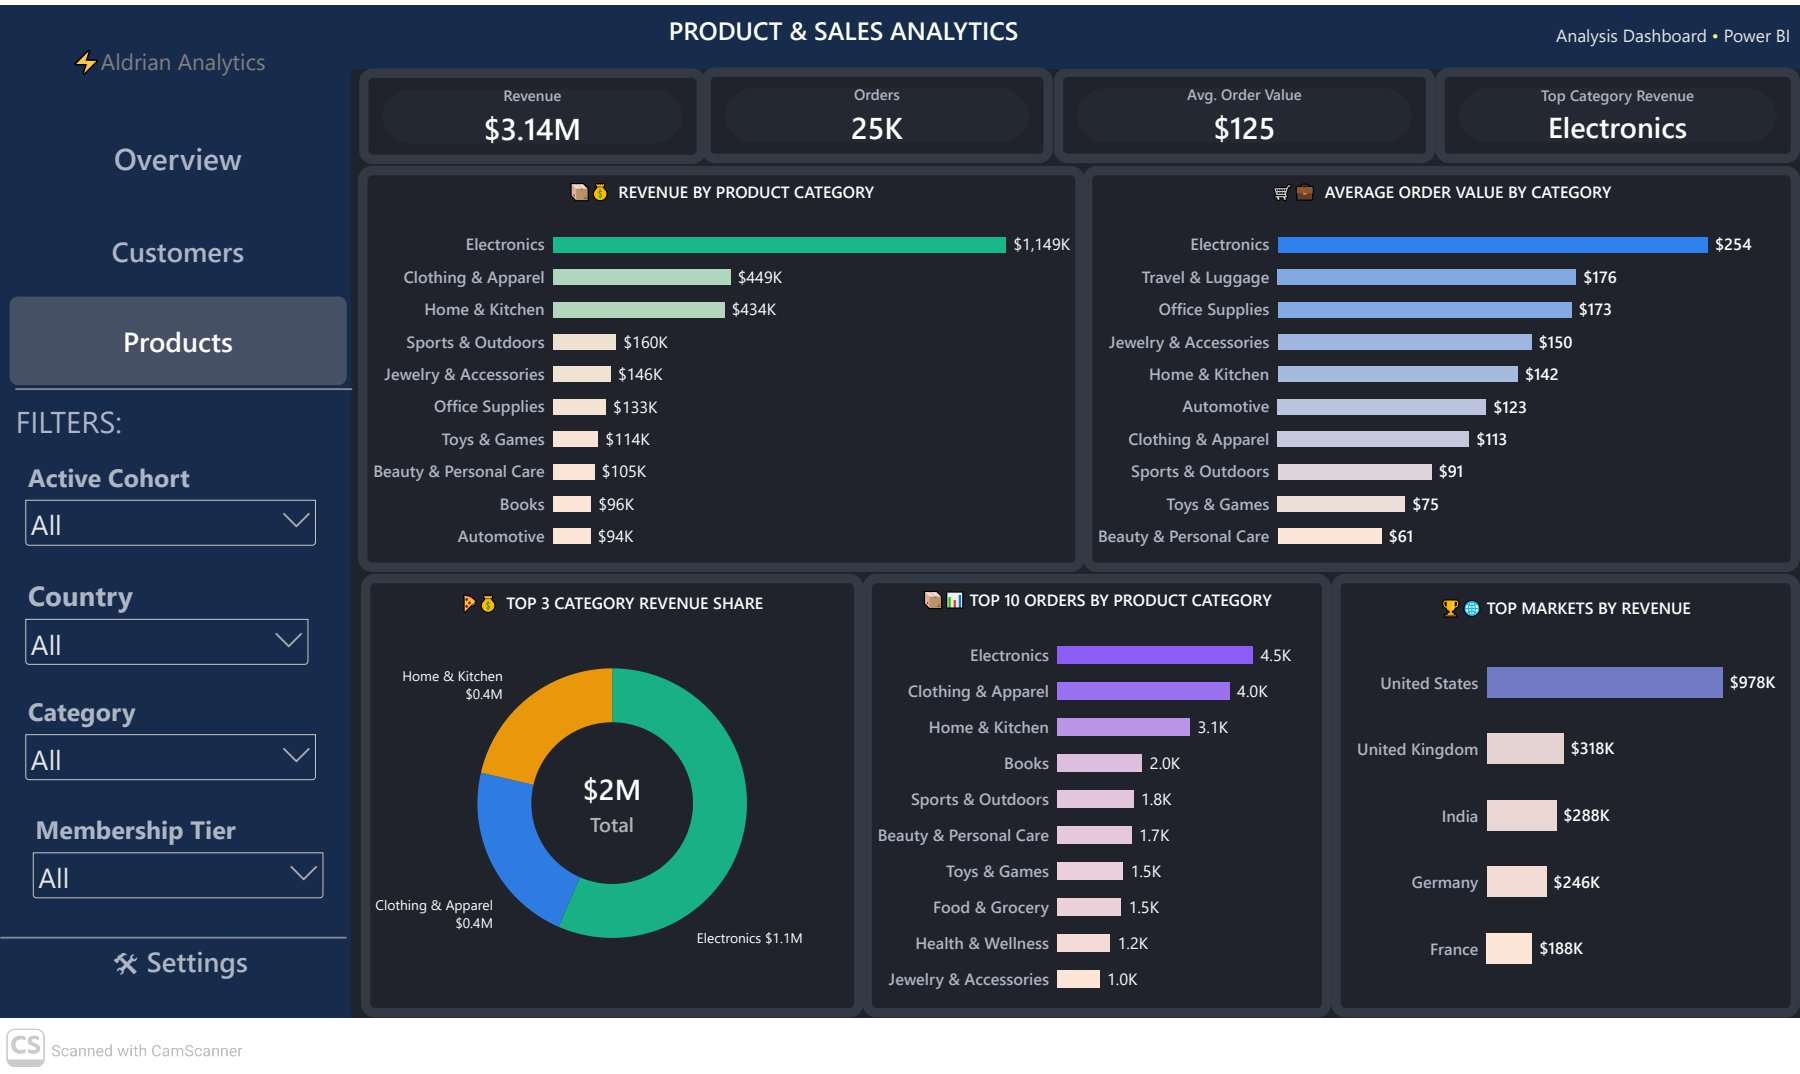

The dashboard page shown, as its layout file describes it:
{"tool":"powerbi","page":{"name":"Products Analytics","canvas":[1920,1080],"ordinal":2},"visuals":[{"type":"shape","box":[0,0,374,1080],"z":0},{"type":"cardVisual","fields":{"Data":["orders_cleaned_dataset csv.Average Order Value Measure"]},"box":[1123.6,67,407,102.3],"z":1000},{"type":"clusteredBarChart","title":"🛒💼  AVERAGE ORDER VALUE BY CATEGORY","fields":{"Category":["orders_cleaned_dataset csv.category"],"Y":["orders_cleaned_dataset csv.Average Orders Value"]},"box":[1155,172,765,433],"z":2000},{"type":"textbox","box":[375,0,1050,67.5],"z":3000},{"type":"clusteredBarChart","title":"🏆🌐  TOP MARKETS BY REVENUE","fields":{"Category":["customers_cleaned_dataset csv.country"],"Y":["orders_cleaned_dataset csv.Total Revenue"]},"box":[1420,607,500,473],"z":4000},{"type":"textbox","box":[0,24,360,90],"z":5000},{"type":"clusteredBarChart","title":"📦💰  REVENUE BY PRODUCT CATEGORY","fields":{"Category":["orders_cleaned_dataset csv.category"],"Y":["orders_cleaned_dataset csv.Total Revenue"]},"box":[382,172,775,433],"z":6000},{"type":"actionButton","box":[10,215,360,95],"z":7000},{"type":"clusteredBarChart","title":"📦📊 TOP 10  ORDERS BY PRODUCT CATEGORY","fields":{"Category":["orders_cleaned_dataset csv.category"],"Y":["orders_cleaned_dataset csv.Total Orders"]},"box":[920,607,500,473],"z":8000},{"type":"donutChart","title":"🍕💰  TOP 3 CATEGORY REVENUE SHARE","fields":{"Category":["orders_cleaned_dataset csv.category"],"Y":["orders_cleaned_dataset csv.Total Revenue"]},"box":[385,607,536,473],"z":9000},{"type":"actionButton","box":[10,311,360,95],"z":10000},{"type":"actionButton","box":[0,960,384,120],"z":11000},{"type":"actionButton","box":[10,116,360,95],"z":12000},{"type":"textbox","box":[1425,0,495,67.5],"z":13000},{"type":"cardVisual","fields":{"Data":["orders_cleaned_dataset csv.Top Revenue Category"]},"box":[1531,67.3,389,102],"z":14000},{"type":"cardVisual","fields":{"Data":["orders_cleaned_dataset csv.Total Orders"]},"box":[748.2,67.3,375.4,102],"z":15000},{"type":"cardVisual","fields":{"Data":["orders_cleaned_dataset csv.Total Revenue"]},"box":[382.5,67.5,370,102],"z":16000},{"type":"slicer","fields":{"Values":["customers_cleaned_dataset csv.registration_date.Variation.Date Hierarchy.Year","customers_cleaned_dataset csv.registration_date.Variation.Date Hierarchy.Quarter","customers_cleaned_dataset csv.registration_date.Variation.Date Hierarchy.Month","customers_cleaned_dataset csv.registration_date.Variation.Date Hierarchy.Day"]},"box":[2,465,360,136],"z":17000},{"type":"slicer","fields":{"Values":["customers_cleaned_dataset csv.country"]},"box":[2,589,352,136],"z":18000},{"type":"slicer","fields":{"Values":["customers_cleaned_dataset csv.membership_tier"]},"box":[10,841,360,136],"z":19000},{"type":"shape","box":[16,398,360,24],"z":20000},{"type":"slicer","fields":{"Values":["orders_cleaned_dataset csv.category"]},"box":[2,715,360,136.5],"z":21000},{"type":"shape","box":[0,984,370,22],"z":22000},{"type":"textbox","box":[0,408,360,75],"z":23000}]}

Visuals, with their boxes on the page's 1920x1080 design canvas (x1, y1, x2, y2). These are canvas units, not pixel positions in the 1800x1074 screenshot, which may show the page scaled, cropped or inside an application window:
shape: [x1=0, y1=0, x2=374, y2=1080]
cardVisual - orders_cleaned_dataset csv.Average Order Value Measure: [x1=1124, y1=67, x2=1531, y2=169]
"🛒💼  AVERAGE ORDER VALUE BY CATEGORY" clusteredBarChart: [x1=1155, y1=172, x2=1920, y2=605]
textbox: [x1=375, y1=0, x2=1425, y2=68]
"🏆🌐  TOP MARKETS BY REVENUE" clusteredBarChart: [x1=1420, y1=607, x2=1920, y2=1080]
textbox: [x1=0, y1=24, x2=360, y2=114]
"📦💰  REVENUE BY PRODUCT CATEGORY" clusteredBarChart: [x1=382, y1=172, x2=1157, y2=605]
actionButton: [x1=10, y1=215, x2=370, y2=310]
"📦📊 TOP 10  ORDERS BY PRODUCT CATEGORY" clusteredBarChart: [x1=920, y1=607, x2=1420, y2=1080]
"🍕💰  TOP 3 CATEGORY REVENUE SHARE" donutChart: [x1=385, y1=607, x2=921, y2=1080]
actionButton: [x1=10, y1=311, x2=370, y2=406]
actionButton: [x1=0, y1=960, x2=384, y2=1080]
actionButton: [x1=10, y1=116, x2=370, y2=211]
textbox: [x1=1425, y1=0, x2=1920, y2=68]
cardVisual - orders_cleaned_dataset csv.Top Revenue Category: [x1=1531, y1=67, x2=1920, y2=169]
cardVisual - orders_cleaned_dataset csv.Total Orders: [x1=748, y1=67, x2=1124, y2=169]
cardVisual - orders_cleaned_dataset csv.Total Revenue: [x1=382, y1=68, x2=752, y2=170]
slicer - customers_cleaned_dataset csv.registration_date.Variation.Date Hierarchy.Year x customers_cleaned_dataset csv.registration_date.Variation.Date Hierarchy.Quarter: [x1=2, y1=465, x2=362, y2=601]
slicer - customers_cleaned_dataset csv.country: [x1=2, y1=589, x2=354, y2=725]
slicer - customers_cleaned_dataset csv.membership_tier: [x1=10, y1=841, x2=370, y2=977]
shape: [x1=16, y1=398, x2=376, y2=422]
slicer - orders_cleaned_dataset csv.category: [x1=2, y1=715, x2=362, y2=852]
shape: [x1=0, y1=984, x2=370, y2=1006]
textbox: [x1=0, y1=408, x2=360, y2=483]
